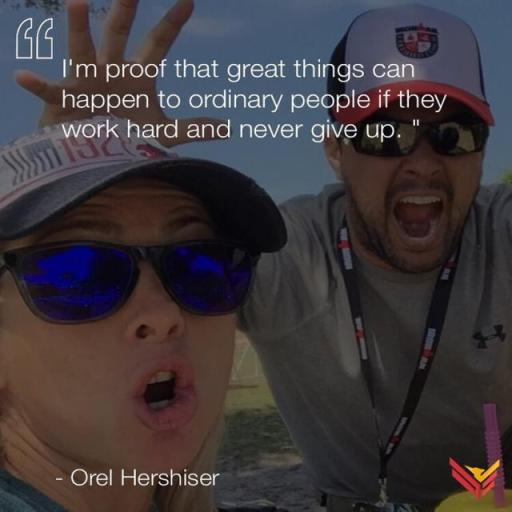Under Armour: (469, 320, 509, 352)
